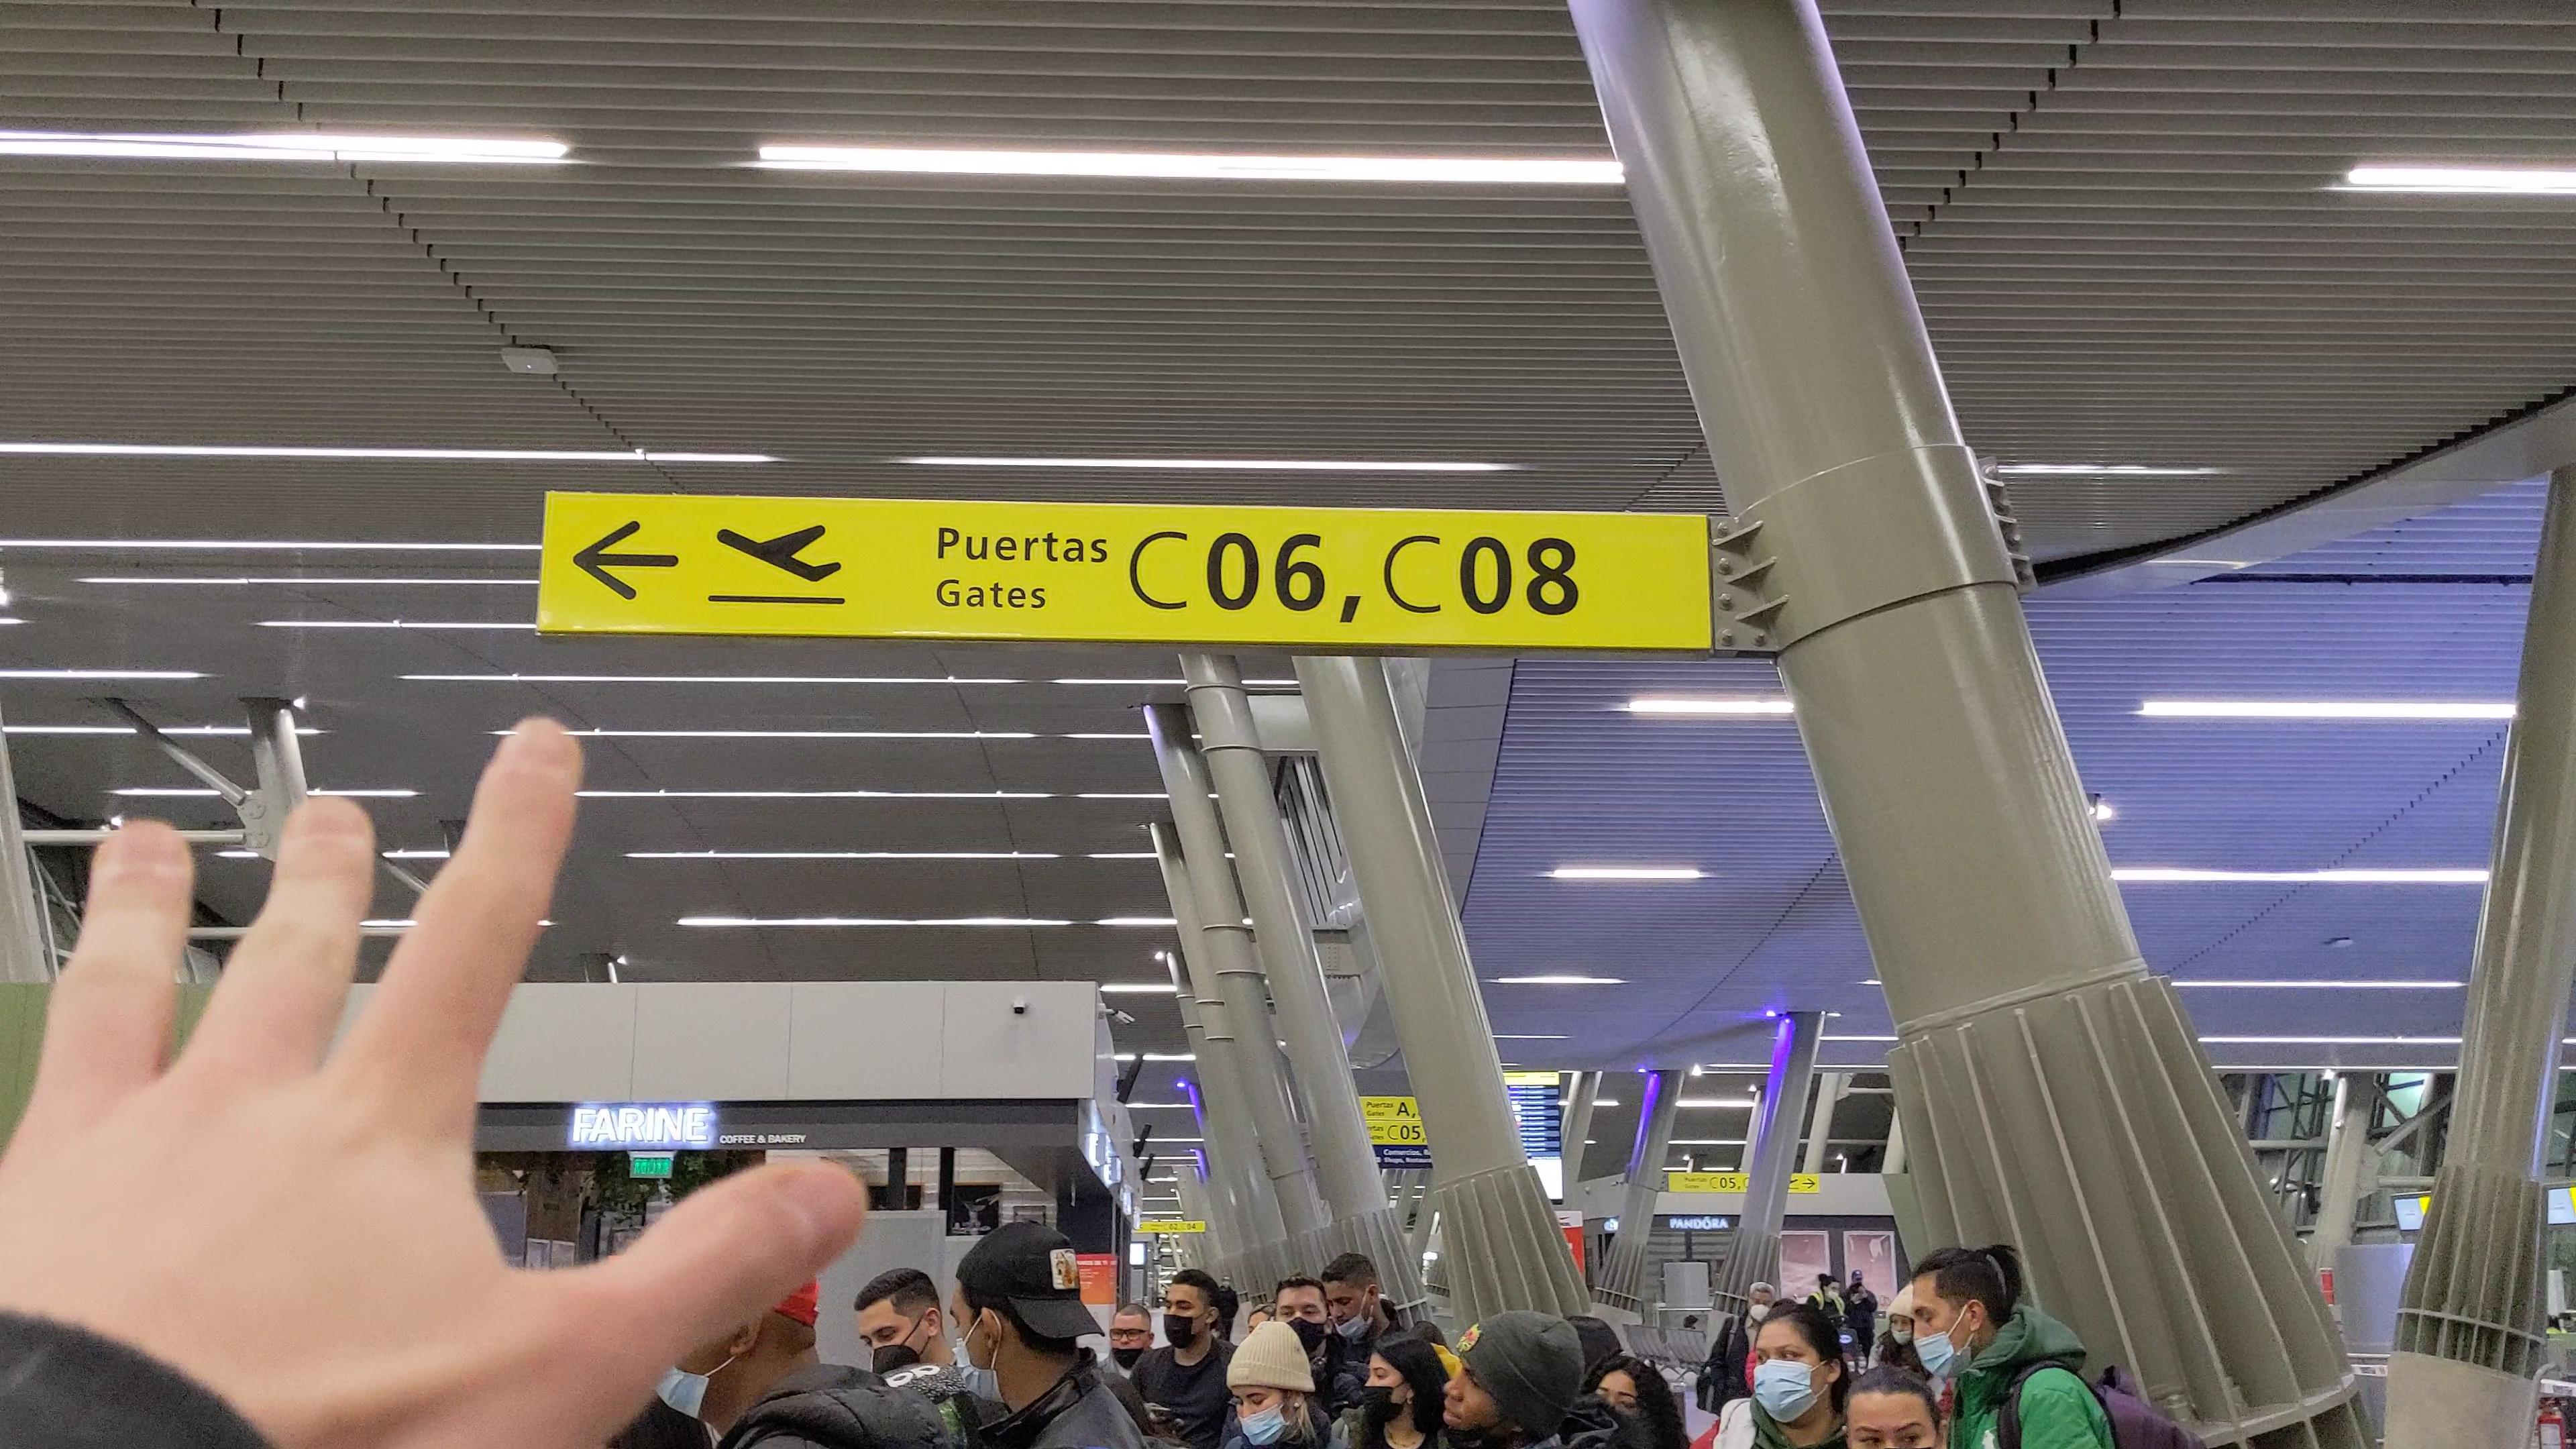airplane symbol: (713, 520, 846, 584)
thin left arrow: (571, 517, 683, 603)
thin right arrow: (1801, 1177, 1817, 1191)
